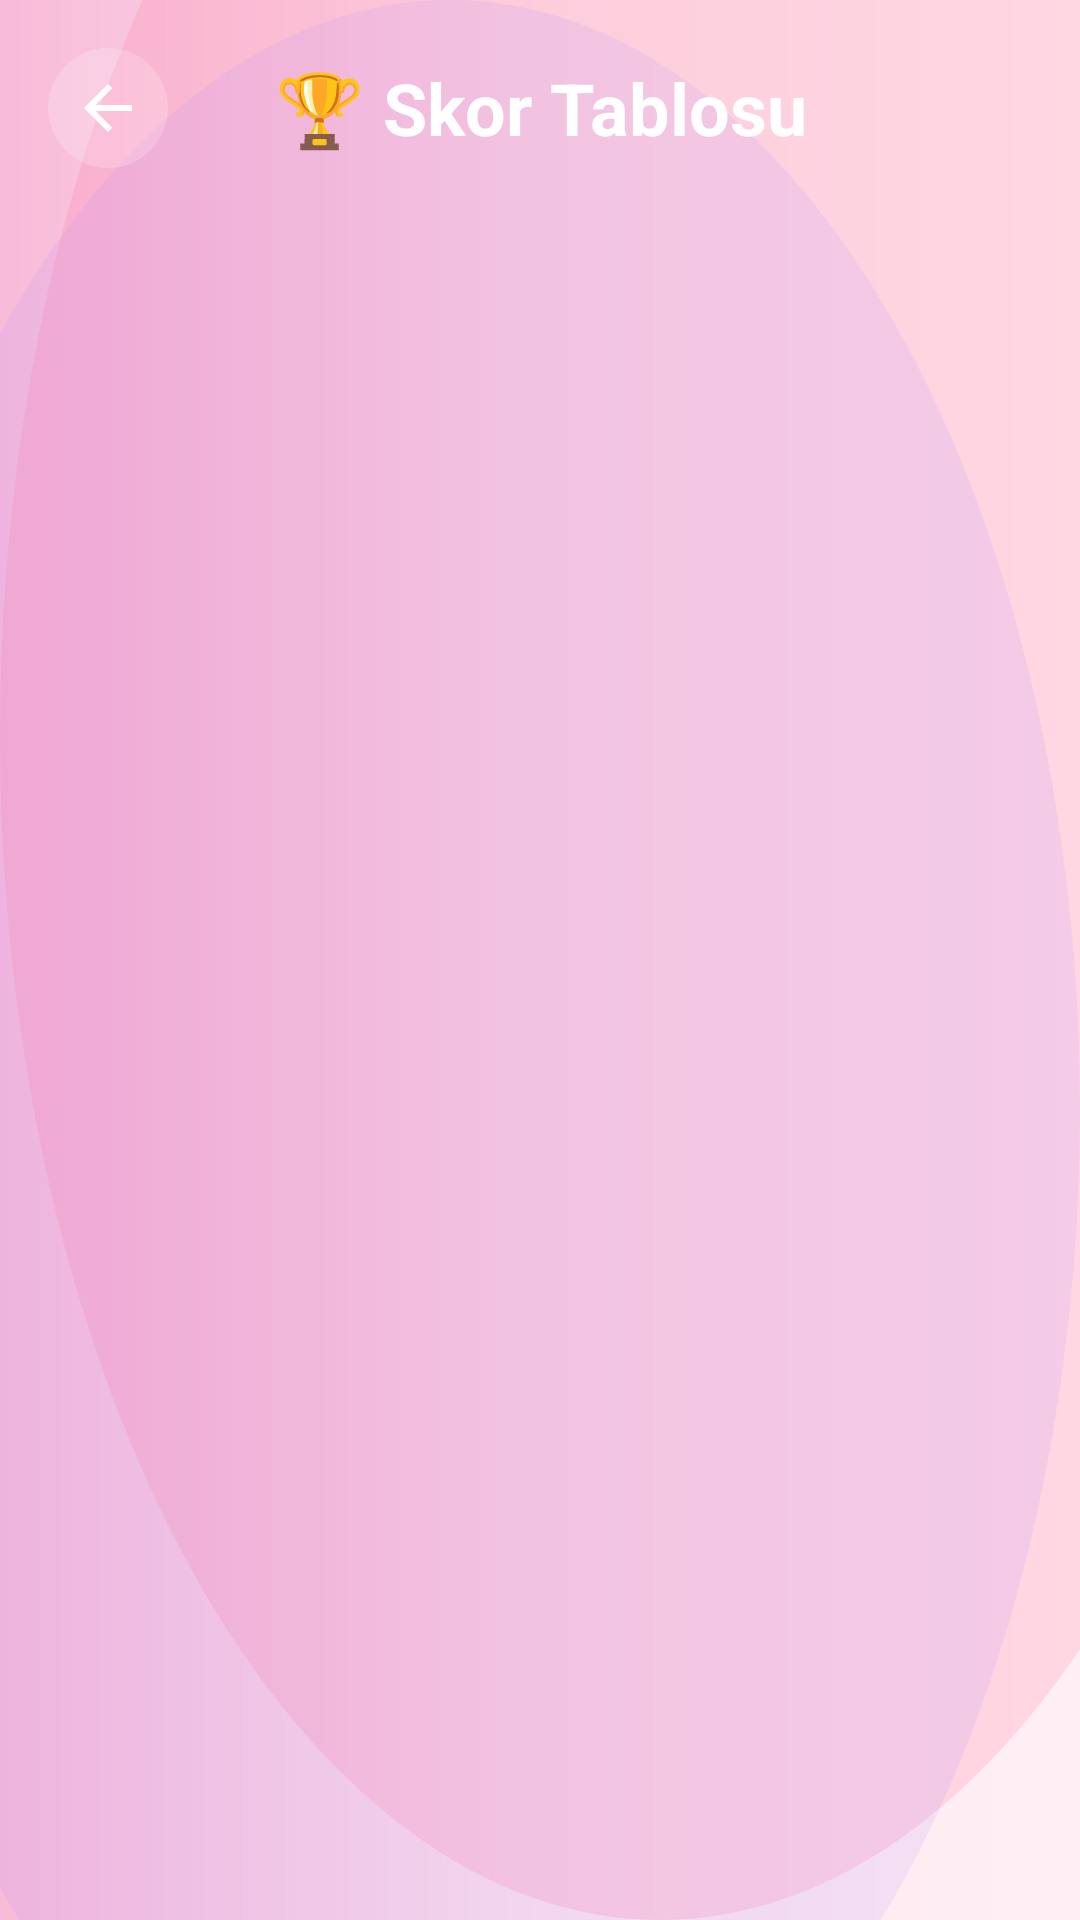

Icons on this 1080 × 1920 Android screen, each with its box as Rect(x1, y1, x2, y2):
Geri: Rect(84, 84, 132, 132)
